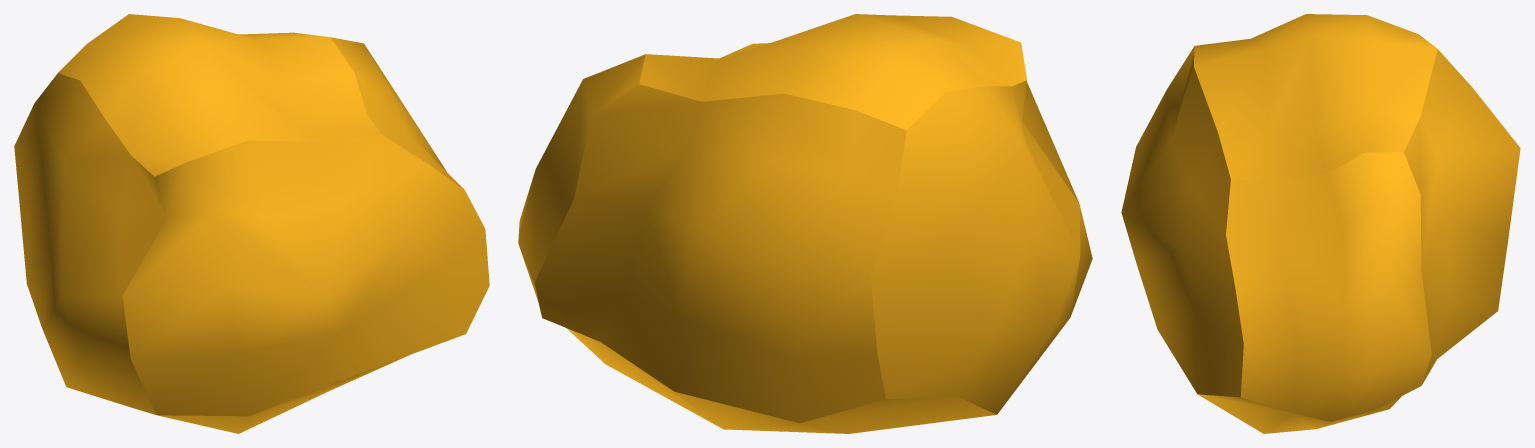
File: nugget.FBX
3 renders of one model, left to right at view 1: azimuth 30°, elevation 25°; view 2: azimuth 150°, elevation 25°; view 3: azimuth 270°, elevation 25°, orthographic. The views are drawn at different scales.
Parts seen in each view (by area): view 1: nugget; view 2: nugget; view 3: nugget.
Part boxes in pixels (x1,y1,x2,y2): nugget: [14, 14, 489, 433]; nugget: [518, 14, 1092, 433]; nugget: [1121, 14, 1520, 433].
Bounding box in the file's own units: 3.47 × 2.63 × 2.91.
